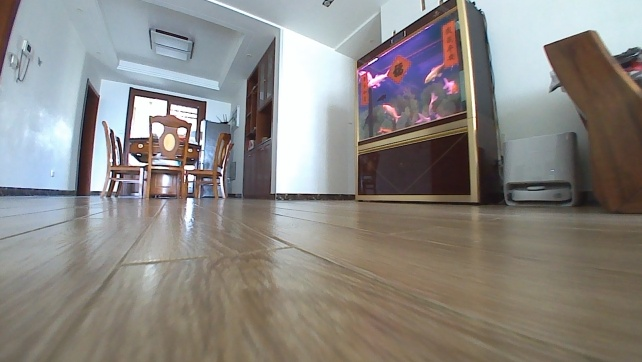dining_table: (95, 110, 236, 201)
